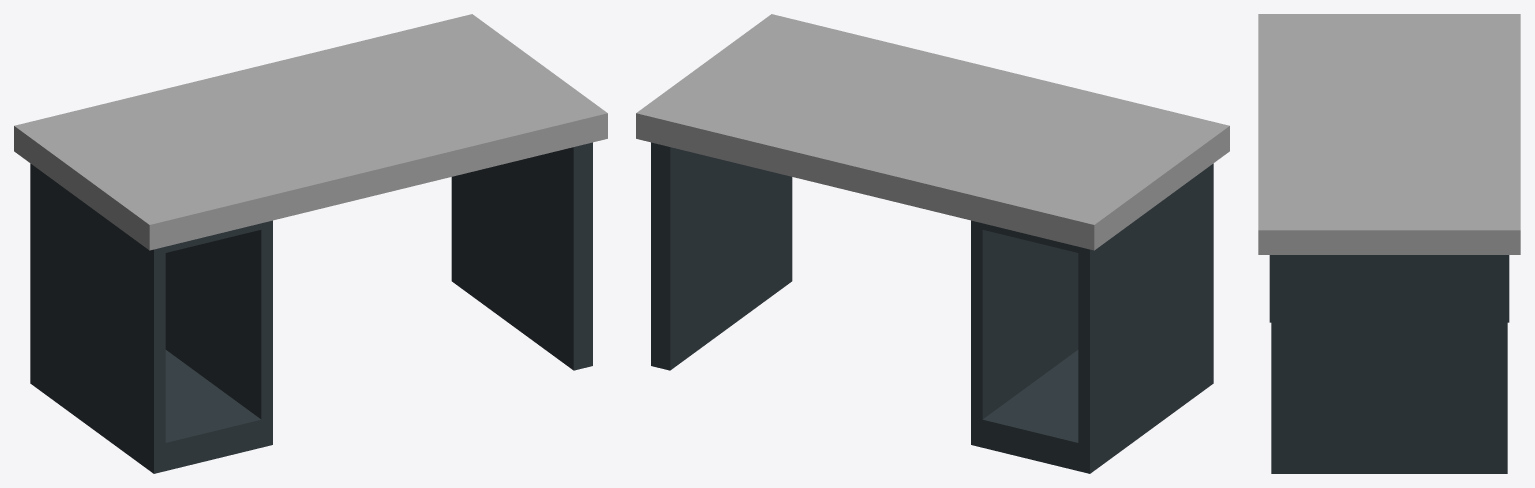
Rendered from DeskV1Dark.fbx.
3 renders of one model, left to right at view 1: azimuth 30°, elevation 25°; view 2: azimuth 150°, elevation 25°; view 3: azimuth 270°, elevation 25°, orthographic. The views are drawn at different scales.
Visible parts, largest first — view 1: DeskV1Dark; view 2: DeskV1Dark; view 3: DeskV1Dark.
Part boxes in pixels (x1,y1,x2,y2): DeskV1Dark: (14, 14, 607, 473); DeskV1Dark: (636, 14, 1229, 473); DeskV1Dark: (1258, 14, 1520, 473).
Bounding box in the file's own units: 150 × 80 × 76.84.
